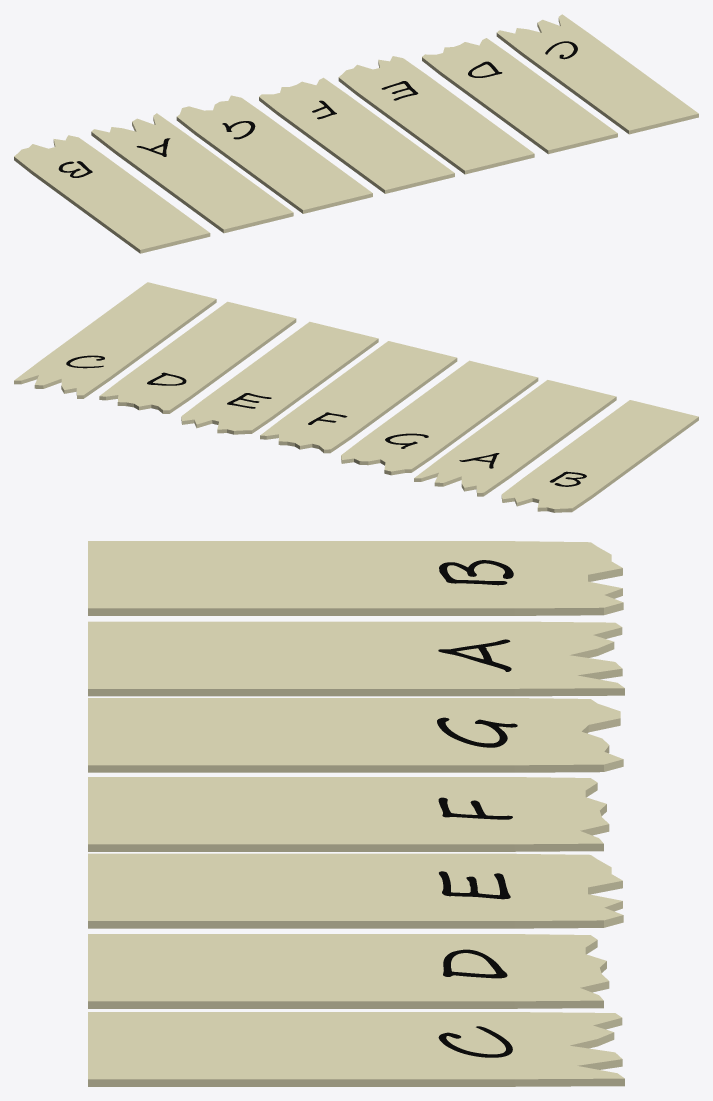
Rendered from Cintas.fbx.
The picture shows the model from 3 angles, top to bottom: view 1: azimuth 30°, elevation 25°; view 2: azimuth 150°, elevation 25°; view 3: azimuth 270°, elevation 25°; orthographic projection. The views are drawn at different scales.
Parts seen in each view (by area): view 1: Text, Text.005, Text.002, Text.006, Text.004, Text.001, Text.003; view 2: Text.006, Text.002, Text.005, Text, Text.004, Text.003, Text.001; view 3: Text.005, Text.002, Text, Text.006, Text.004, Text.003, Text.001.
Part boxes in pixels (x1,y1,x2,y2): Text: (496, 14, 698, 134); Text.005: (91, 113, 293, 233); Text.002: (338, 56, 534, 174); Text.006: (14, 135, 210, 253); Text.004: (176, 95, 372, 213); Text.001: (422, 38, 617, 154); Text.003: (259, 77, 454, 193); Text.006: (501, 400, 698, 512); Text.002: (181, 321, 378, 434); Text.005: (414, 380, 616, 496); Text: (14, 282, 216, 398); Text.004: (341, 360, 538, 475); Text.003: (260, 341, 457, 453); Text.001: (99, 301, 296, 413); Text.005: (88, 621, 624, 696); Text.002: (88, 853, 623, 928); Text: (88, 1012, 624, 1086); Text.006: (88, 541, 623, 615); Text.004: (88, 698, 623, 772); Text.003: (88, 777, 609, 851); Text.001: (88, 934, 609, 1008).
Size of the model in its own units: 136 by 0.9456 by 57.17.
